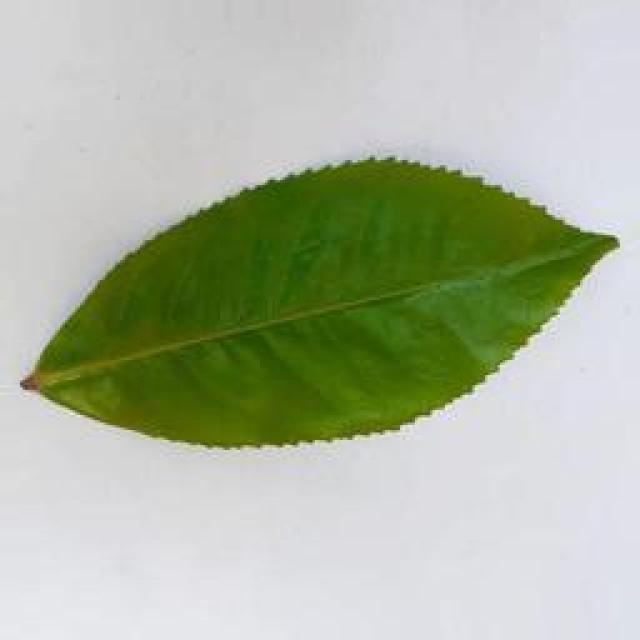Healthy: (2, 154, 620, 462)
